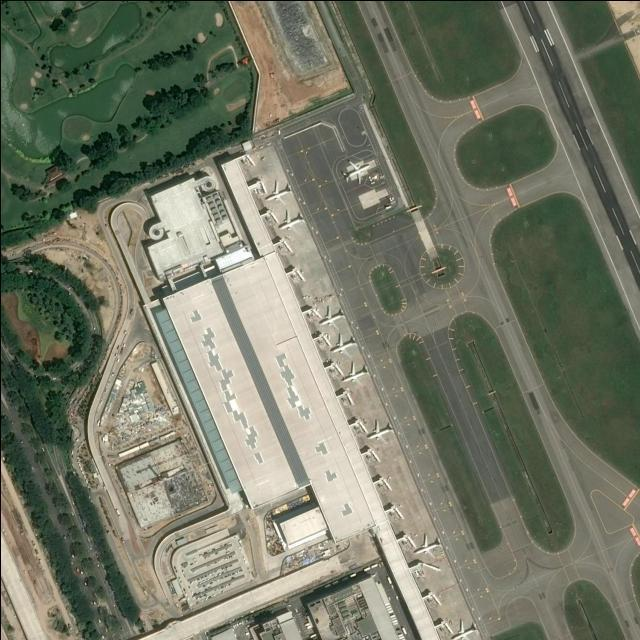Aircraft: (412, 535, 442, 560), (366, 420, 394, 446), (318, 305, 346, 330), (341, 362, 369, 387), (341, 161, 369, 185), (264, 181, 292, 205), (277, 210, 305, 234), (330, 334, 356, 359), (450, 620, 478, 640)
